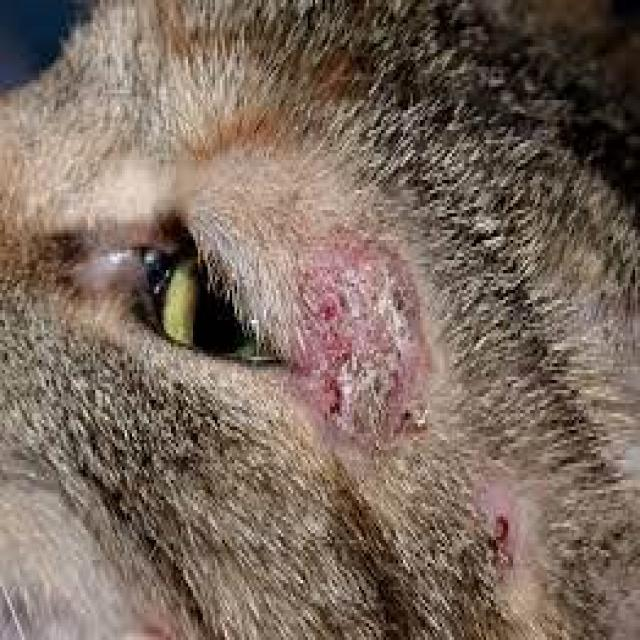cat-ringworm: (299, 247, 419, 428), (478, 495, 528, 567)
